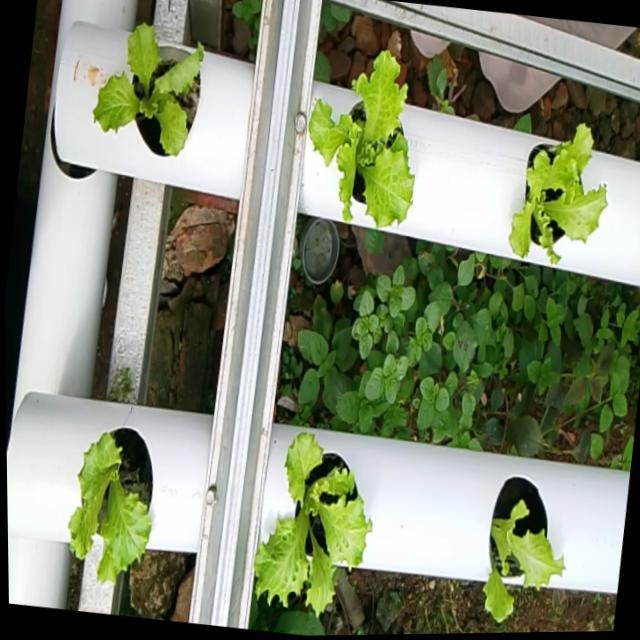Baby: (254, 430, 371, 615), (306, 51, 411, 228), (91, 26, 202, 160), (505, 120, 602, 260), (69, 429, 152, 583), (481, 469, 561, 613)
